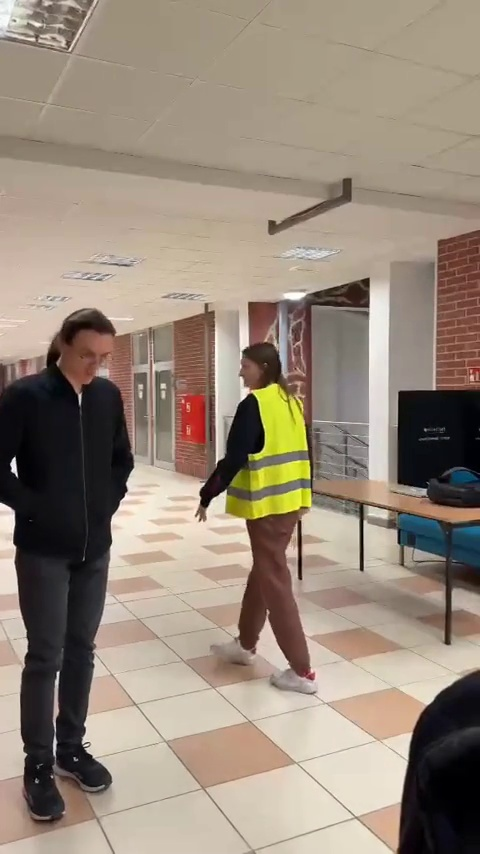no vest: (0, 305, 148, 822)
vest: (193, 328, 323, 694)
